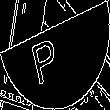P_N: (38, 25, 72, 85)
